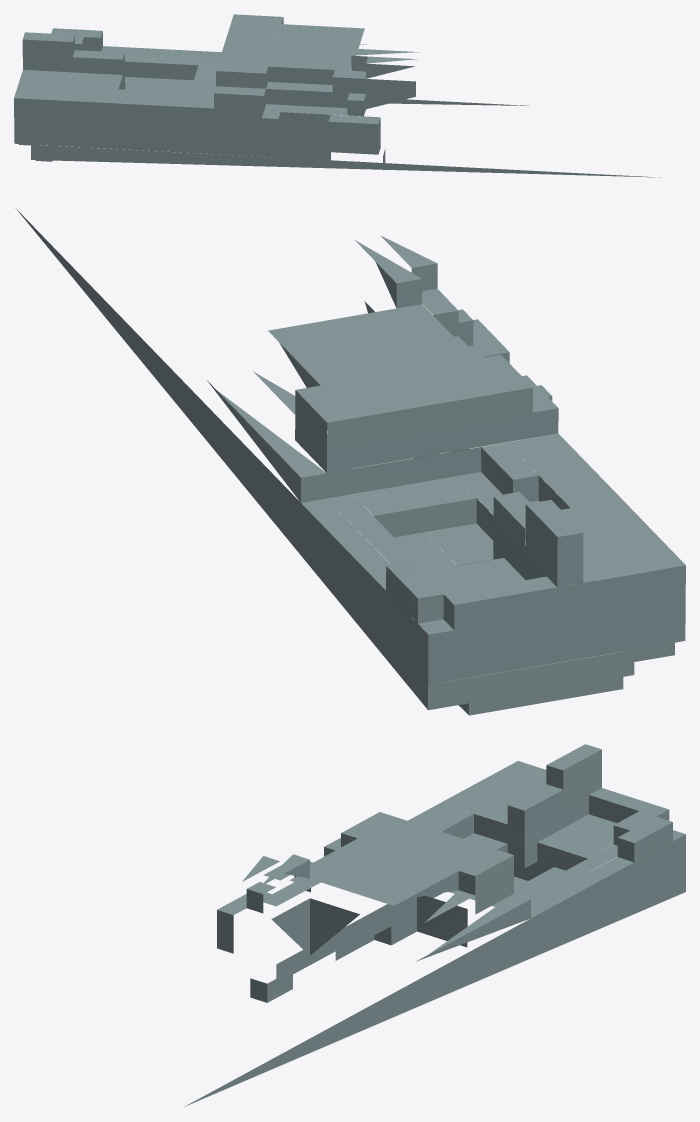
The picture shows the model from 3 angles, top to bottom: view 1: azimuth 30°, elevation 25°; view 2: azimuth 150°, elevation 25°; view 3: azimuth 270°, elevation 25°; orthographic projection. The views are drawn at different scales.
Parts seen in each view (by area): view 1: measured-industrial; view 2: measured-industrial; view 3: measured-industrial.
Part boxes in pixels (box(x1,y1,x2,y2)): measured-industrial: box(14, 14, 660, 177); measured-industrial: box(15, 208, 685, 715); measured-industrial: box(184, 744, 685, 1106).
Bounding box in the file's own units: 37.03 × 8.1 × 31.71.
